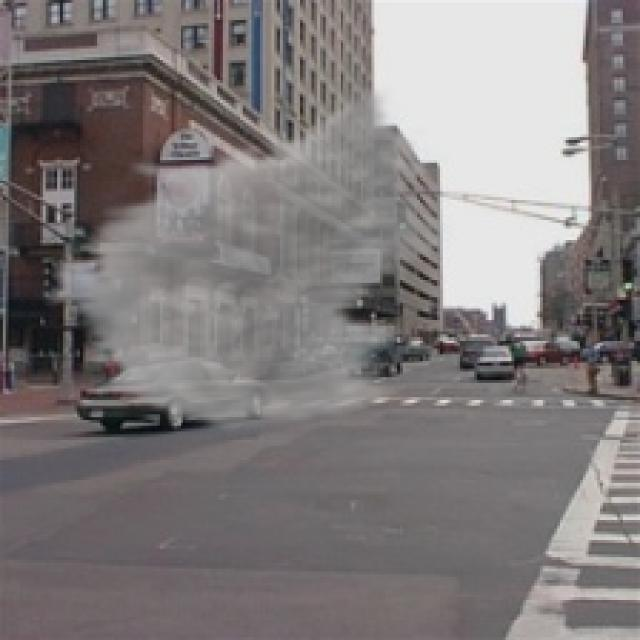smoke: (34, 83, 457, 434)
